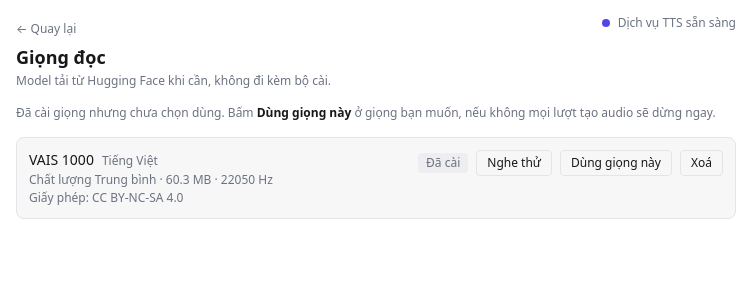
it: nghe thử giọng › IPC lỗi thì hiện thông báo, không kẹt ở "Đang tạo…"
The width and height of the screenshot is (753, 298).
Click the button with test id "voice-preview".
click(514, 163)  # box [476,150,552,176]
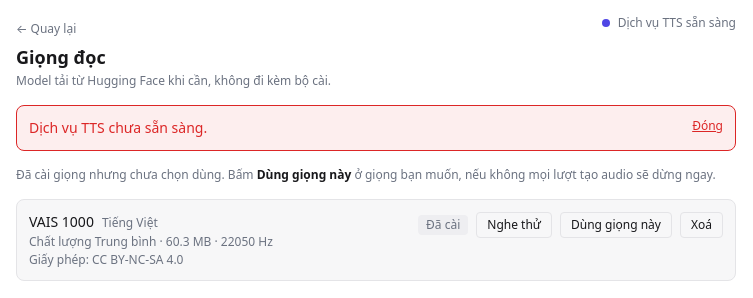
Expected: the button with test id "voice-preview" is enabled, [476,212,552,238]
Expected: the message with test id "voice-error" shows "Dịch vụ TTS", [29,118,207,137]
